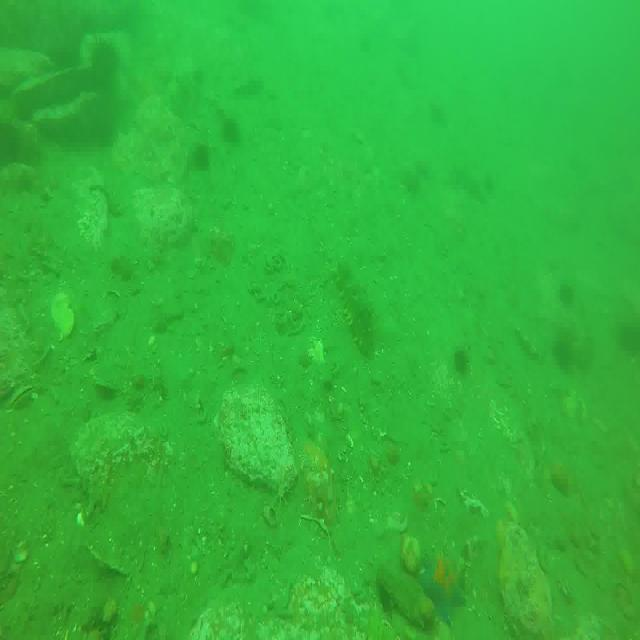echinus: (90, 40, 118, 87), (452, 341, 468, 379)
holothurian: (371, 556, 438, 629), (333, 255, 374, 356)
starfish: (422, 545, 463, 625)
